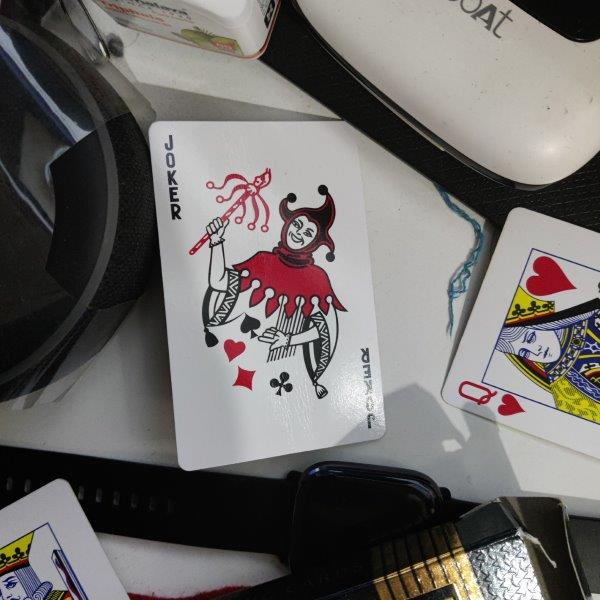Joker: (148, 121, 387, 471)
